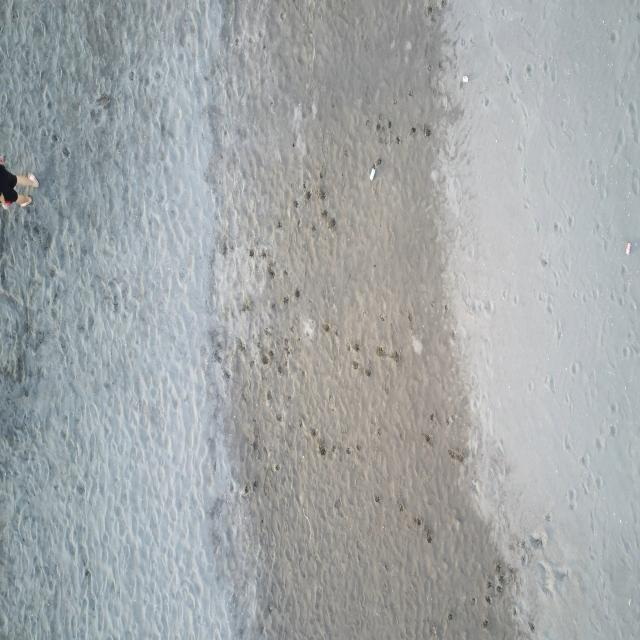tin-and-aluminum-cans: (368, 166, 376, 182), (626, 242, 632, 257), (462, 74, 468, 84)
